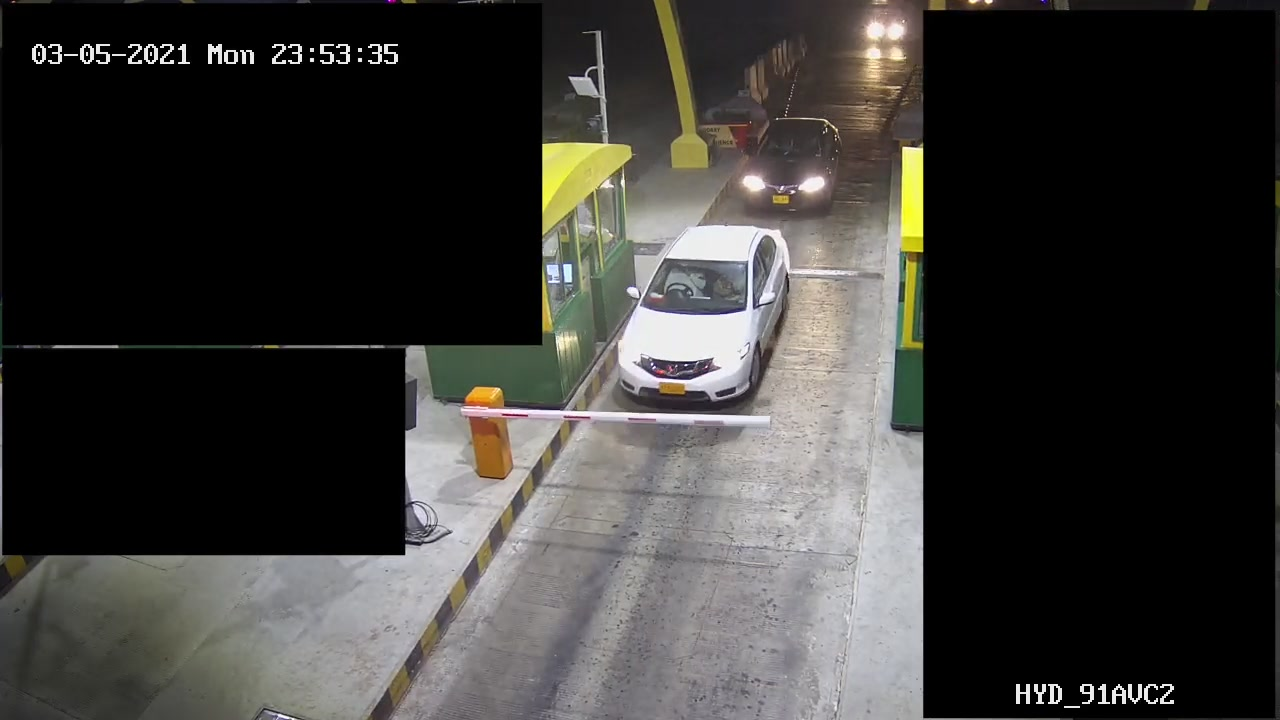F1: (603, 225, 806, 407), (738, 111, 845, 218)
